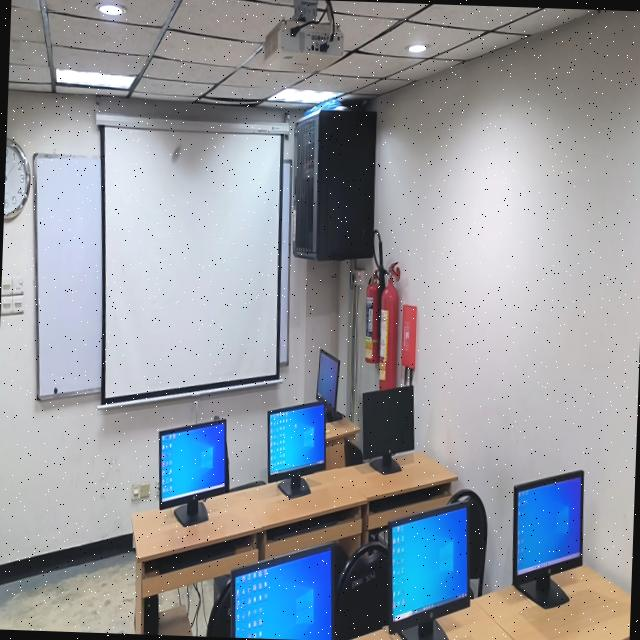Chair: (334, 542, 388, 640), (448, 489, 486, 594)
Fire Extinguisher: (379, 275, 398, 390), (365, 270, 379, 363)
Keyboard: (145, 536, 252, 575), (267, 510, 352, 541), (369, 482, 449, 513)
Light: (56, 68, 135, 89), (267, 87, 340, 105), (96, 1, 125, 16), (407, 41, 426, 54)
Monitor: (387, 502, 474, 640), (512, 471, 583, 608), (231, 546, 330, 640), (158, 417, 228, 526), (267, 402, 325, 497), (362, 386, 413, 473), (316, 349, 342, 421)
Projector: (259, 19, 343, 73)
